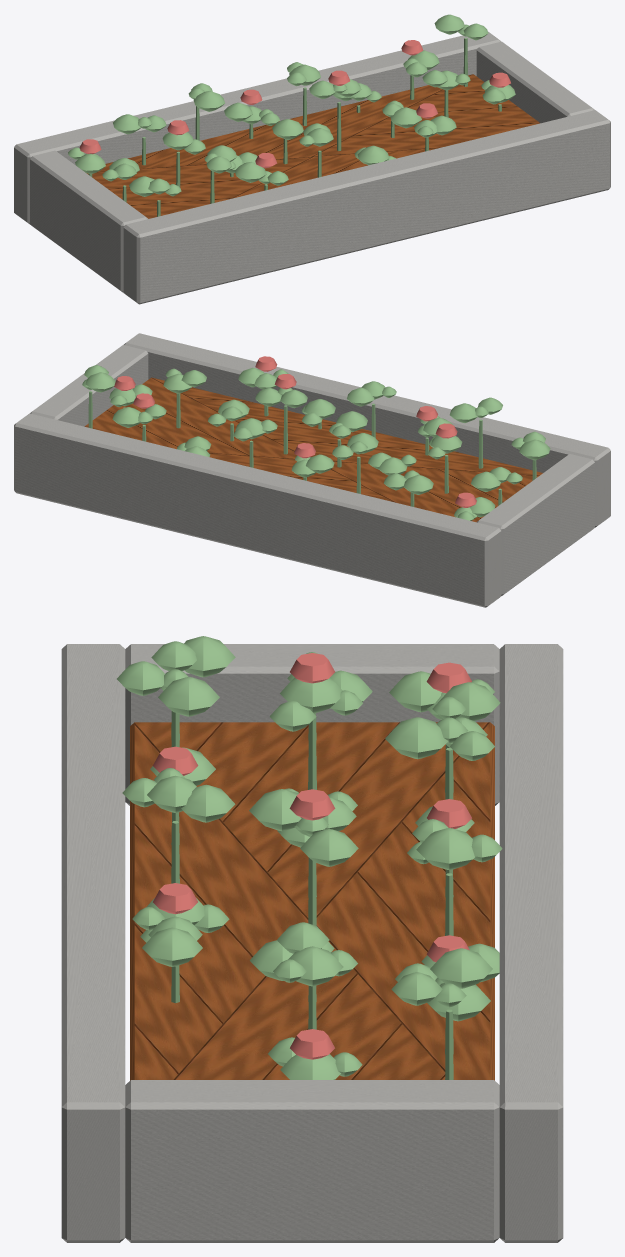
The model's file is street-flower-bed.glb.
3 renders of one model, top to bottom at view 1: azimuth 30°, elevation 25°; view 2: azimuth 150°, elevation 25°; view 3: azimuth 270°, elevation 25°, orthographic. The views are drawn at different scales.
Parts seen in each view (by area): view 1: flower-bed; view 2: flower-bed; view 3: flower-bed.
Boxes of the visible parts, x1,y1,x2,y2 form: flower-bed: (14, 14, 610, 304); flower-bed: (14, 333, 610, 607); flower-bed: (61, 636, 563, 1242).
Bounding box in the file's own units: 2.4 × 0.63 × 1.1.
Materials: 4 (2 with a texture image).
